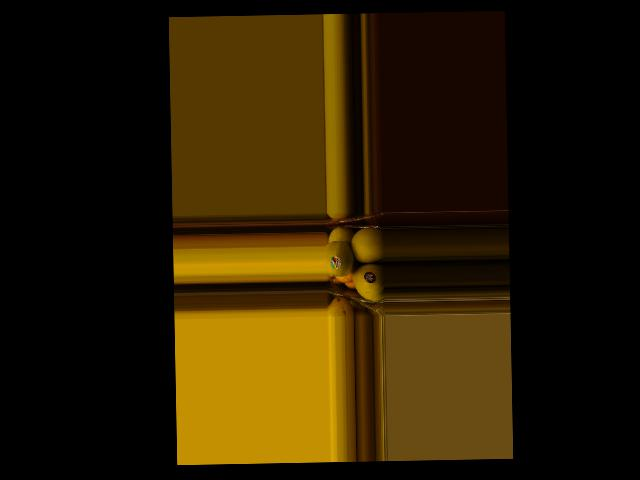apple: (326, 239, 353, 280)
